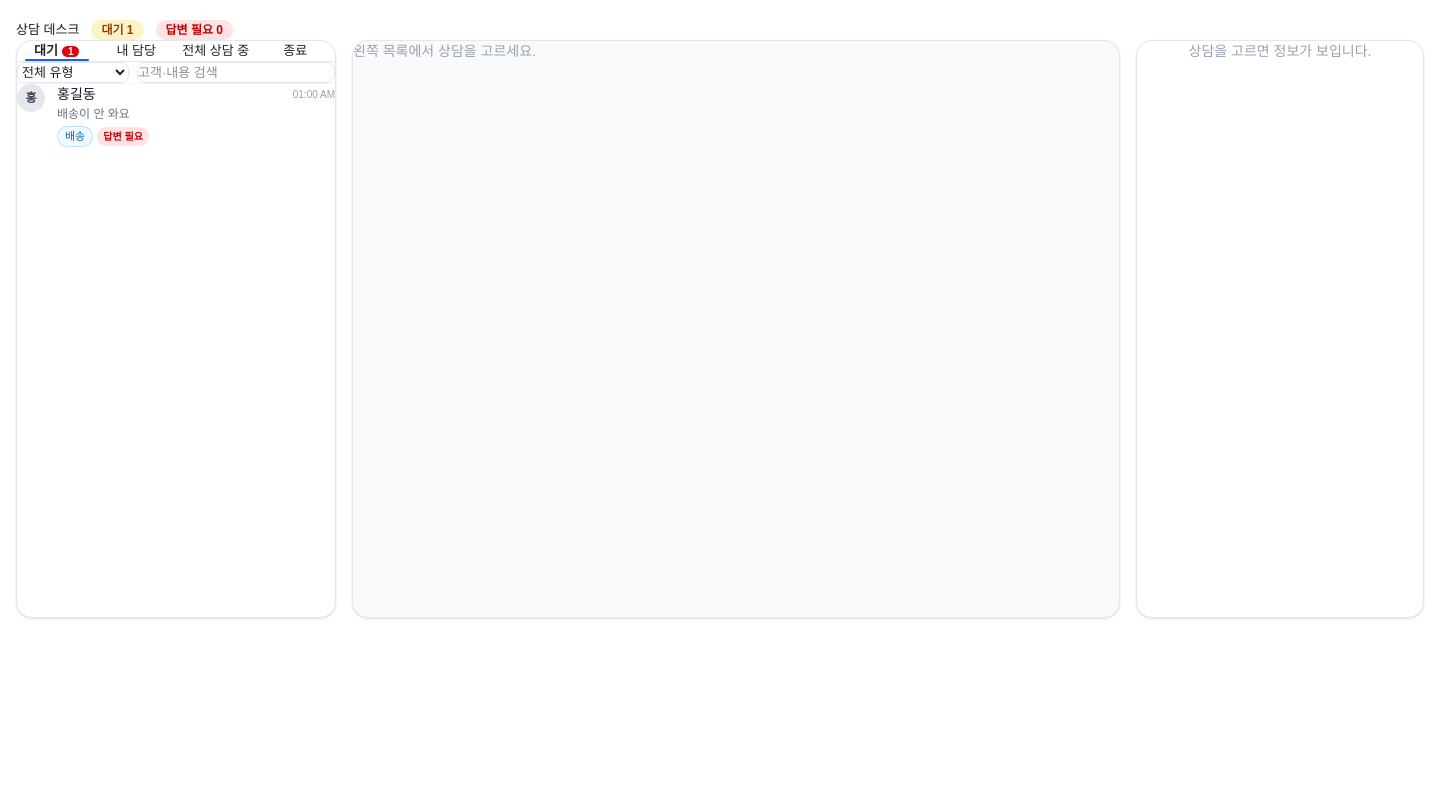
Test: Desk — 상담 데스크 › 다른 상담원이 먼저 맡았으면 서버의 이유를 보인다
Click the button "홍 홍길동 01:00 AM 배송이 안 와요 배송 답변 필요": point(76, 94) [17, 84, 335, 146]
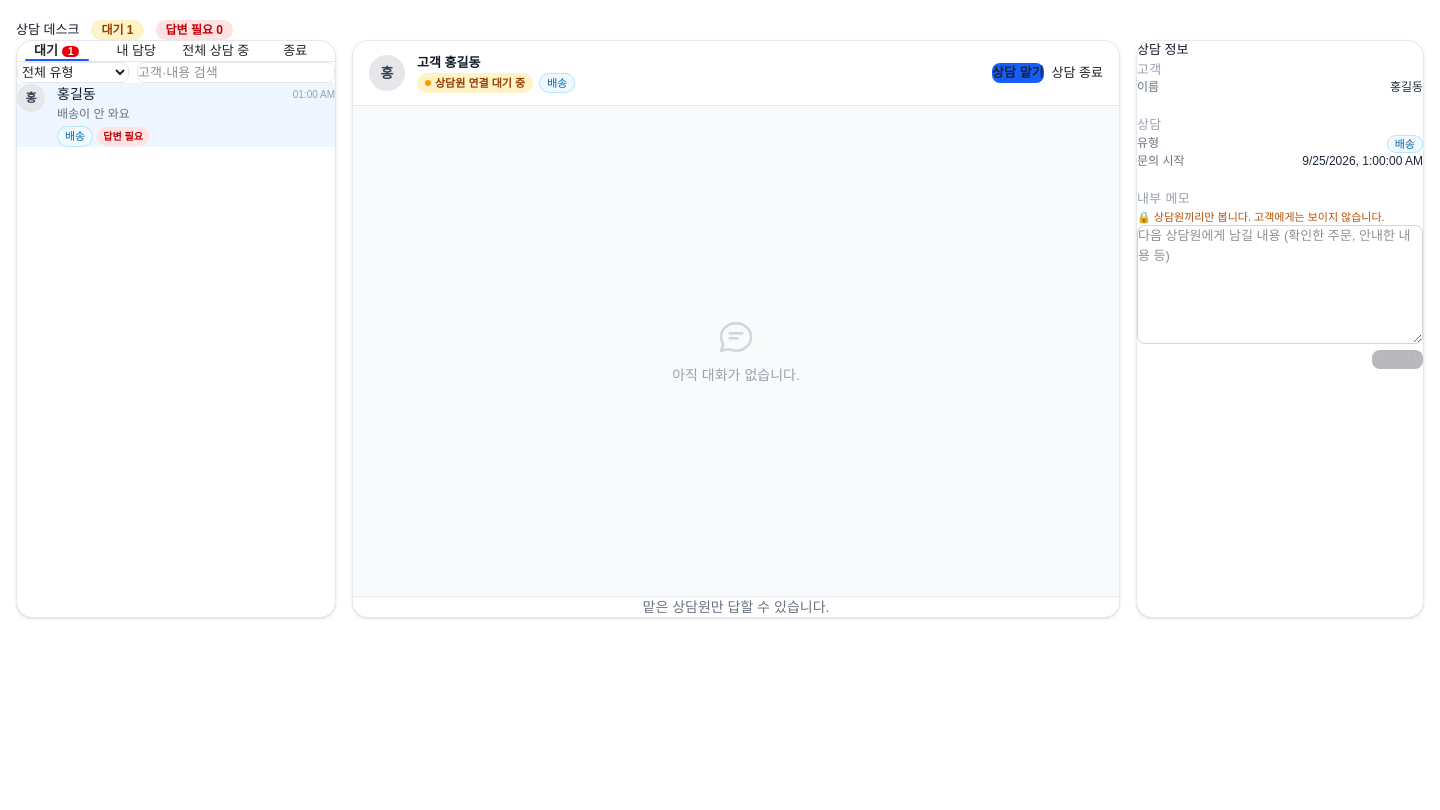
Click the button "상담 맡기": point(1018, 73) [992, 63, 1044, 83]
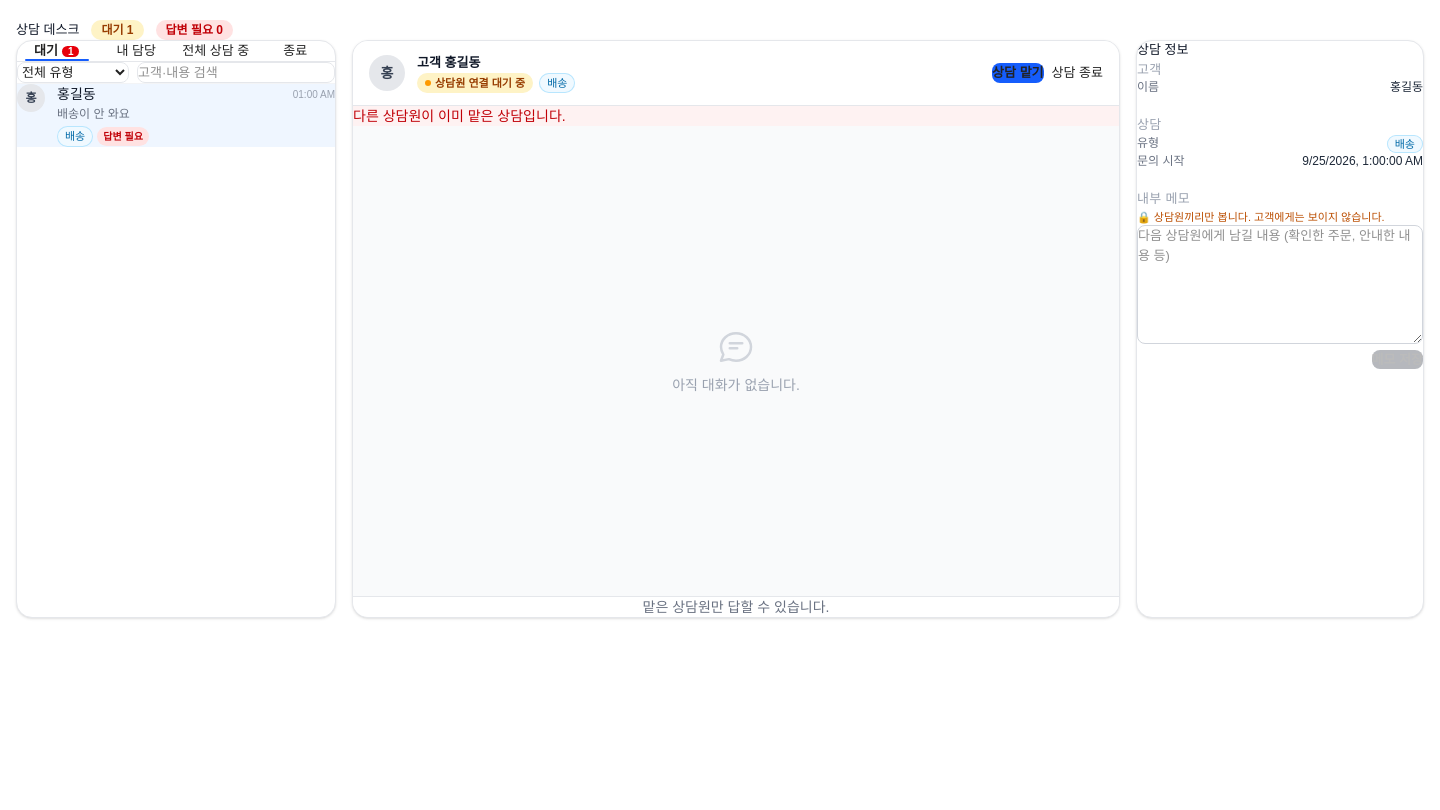
Result: the message reads "다른 상담원이 이미 맡은 상담입니다." at [353, 108, 566, 124]
